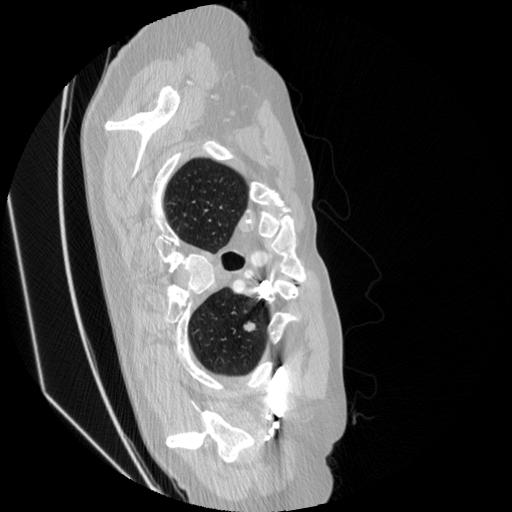nodule: (242, 317, 261, 336)
